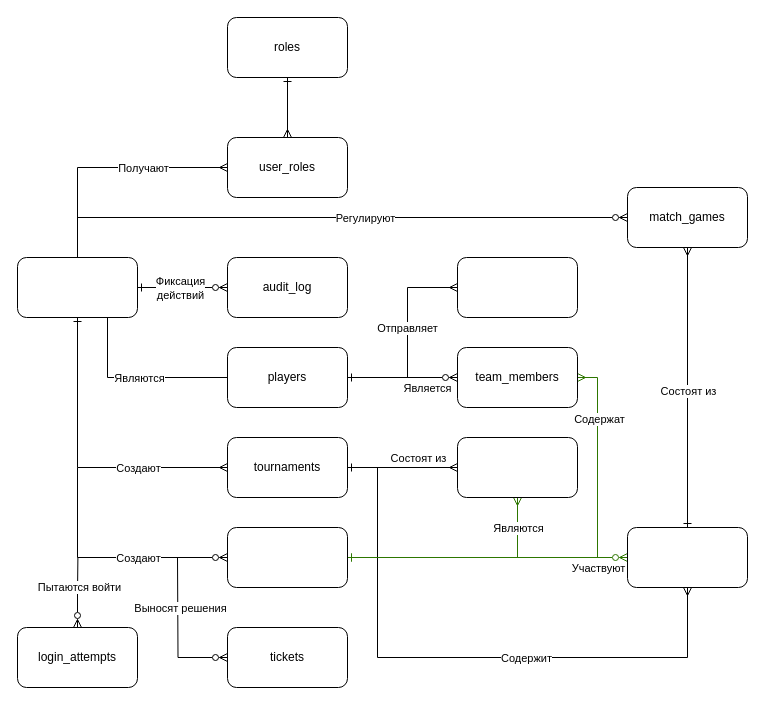
The diagram is 765 pixels wide and 705 high, and some of its shapes have lost their labels. Here are the shapes that lost their labels. From the top down, the box of each, then its label:
(16, 256, 138, 318): users
(456, 256, 578, 318): applications
(456, 436, 578, 498): tournament_ participants
(226, 526, 348, 588): teams
(626, 526, 748, 588): matches
